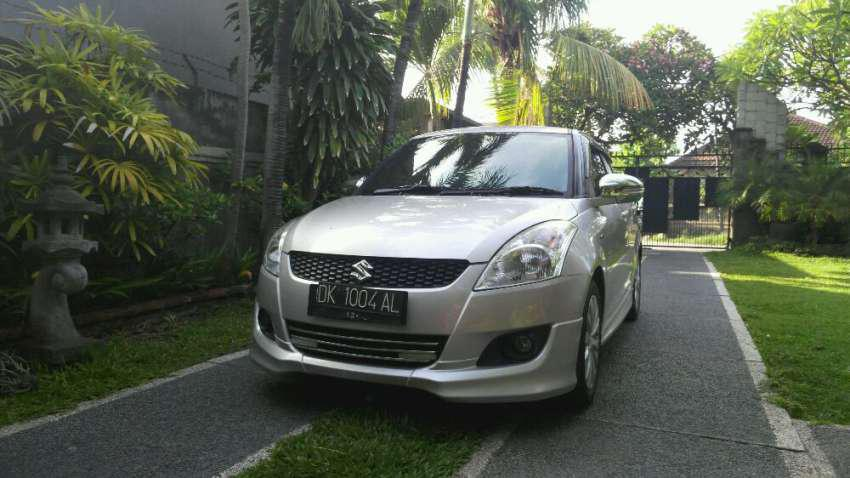plate: (309, 280, 409, 326)
